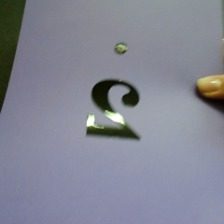violet2: (80, 40, 147, 146)
